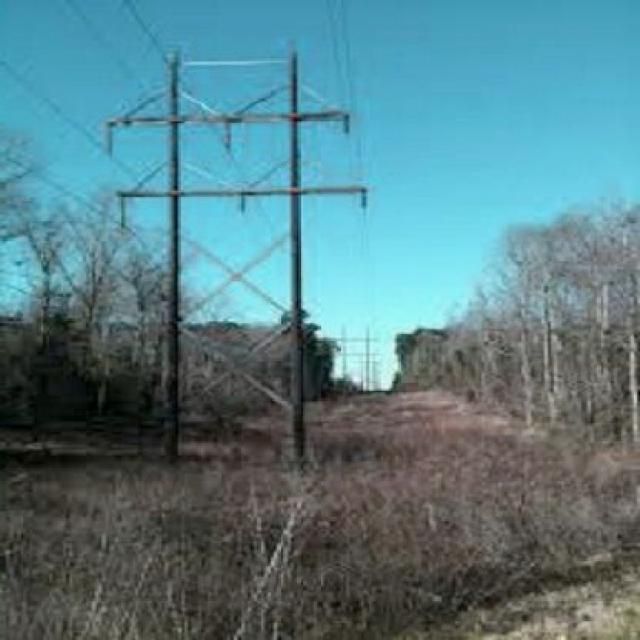crossarm: (97, 108, 351, 143), (112, 183, 374, 206)
pole: (162, 49, 183, 465), (289, 40, 308, 463)
